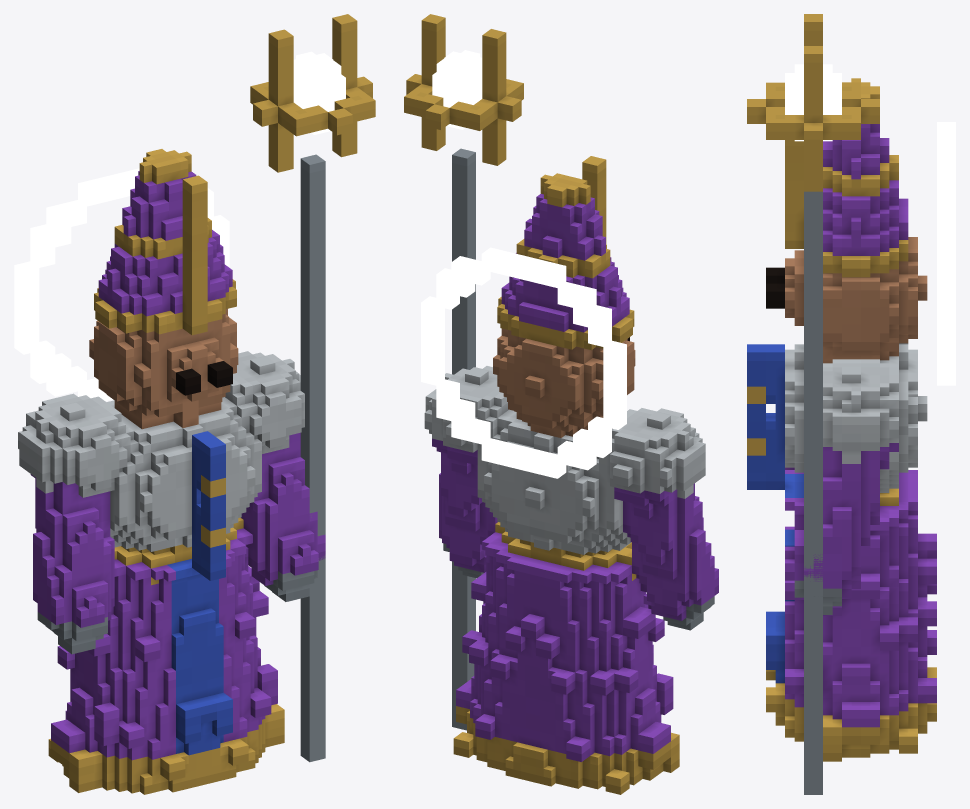
The model's file is u_garde__oracle.glb.
The picture shows the model from 3 angles, left to right: view 1: azimuth 30°, elevation 25°; view 2: azimuth 150°, elevation 25°; view 3: azimuth 270°, elevation 25°; orthographic projection. The views are drawn at different scales.
Parts seen in each view (by area): view 1: garde_body, garde_weapon, garde_glow, garde_weaponglow; view 2: garde_body, garde_glow, garde_weapon, garde_weaponglow; view 3: garde_body, garde_weapon, garde_glow, garde_weaponglow.
Boxes of the visible parts, <box> form: garde_body: <box>18,149,325,794</box>; garde_weapon: <box>250,14,375,762</box>; garde_glow: <box>14,168,229,401</box>; garde_weaponglow: <box>293,51,345,134</box>; garde_body: <box>424,156,718,794</box>; garde_glow: <box>421,247,626,478</box>; garde_weapon: <box>404,14,523,730</box>; garde_weaponglow: <box>432,50,482,129</box>; garde_body: <box>747,78,936,761</box>; garde_weapon: <box>747,14,879,794</box>; garde_glow: <box>937,122,955,385</box>; garde_weaponglow: <box>785,64,841,141</box>.
Bounding box in the file's own units: 1 × 2.2 × 0.55.
